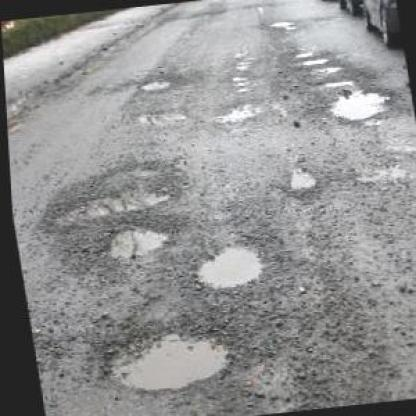pothole: (90, 316, 232, 397), (36, 160, 183, 224), (180, 233, 265, 294), (86, 214, 172, 264), (322, 82, 394, 122), (282, 165, 316, 191), (134, 76, 170, 93), (268, 15, 297, 32), (297, 53, 328, 65), (309, 63, 340, 72)
